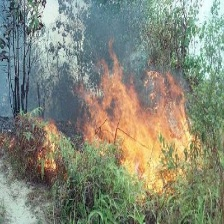fire: (79, 63, 201, 193), (6, 116, 61, 172)
smoke: (36, 3, 141, 91)
